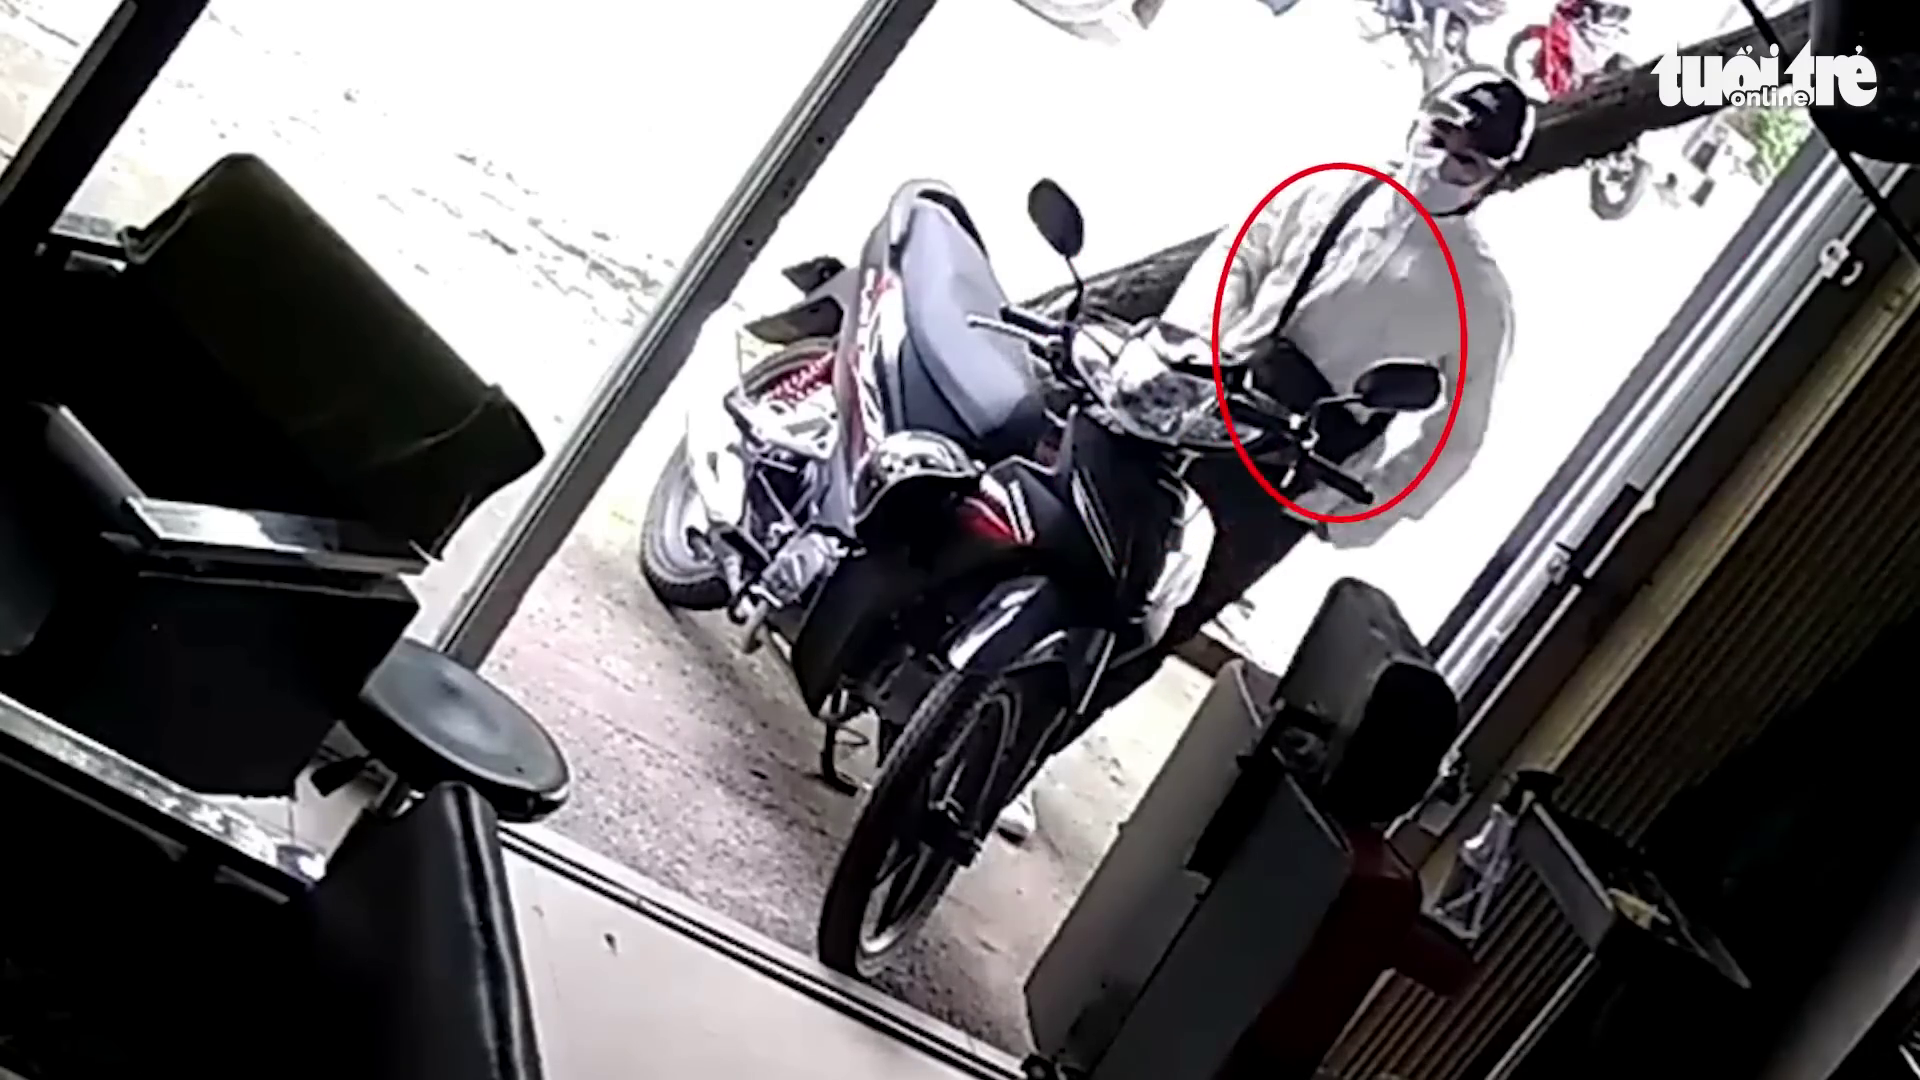Motorcycle: (640, 170, 1474, 980), (1, 135, 575, 1056)
